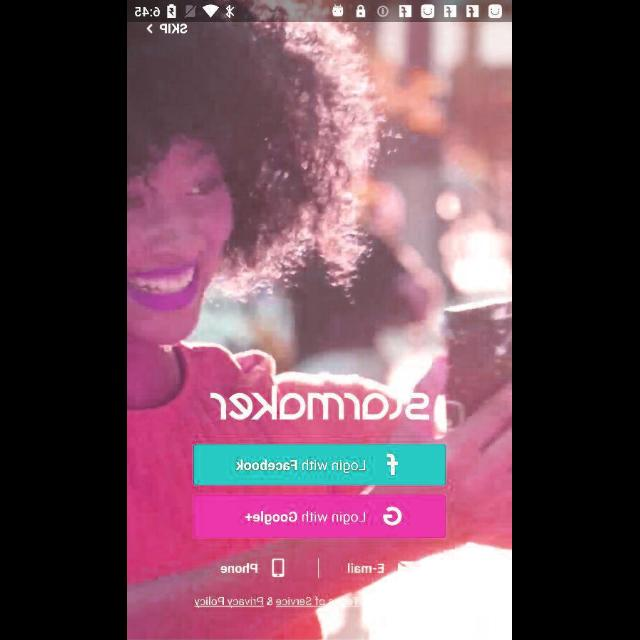backgroundimage: (128, 22, 512, 640)
image: (212, 386, 430, 420), (272, 558, 286, 578)
text: (195, 597, 361, 609), (147, 23, 189, 35), (222, 562, 258, 574), (348, 562, 384, 574)
textbutton: (194, 495, 446, 539), (194, 444, 446, 486)
uppertaskbar: (128, 1, 512, 23)
